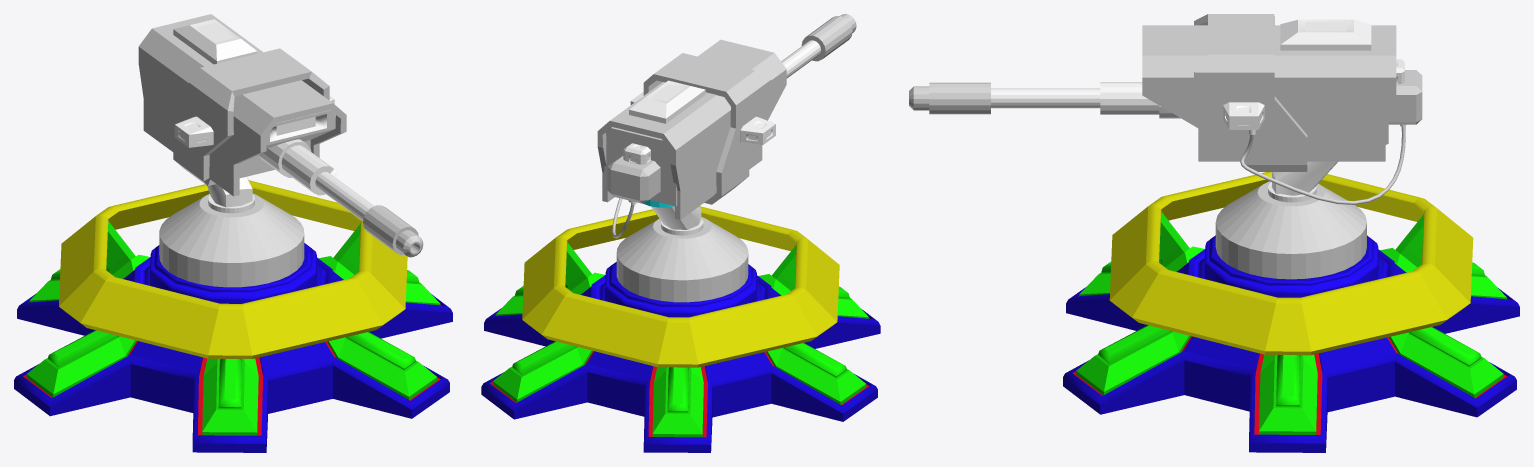
File: StandardTurret.fbx
3 views of the same model, side by side, from view 1: azimuth 30°, elevation 25°; view 2: azimuth 150°, elevation 25°; view 3: azimuth 270°, elevation 25° (orthographic). The views are drawn at different scales.
Parts seen in each view (by area): view 1: Base.003, Цилиндр.001; view 2: Base.003, Цилиндр.001; view 3: Base.003, Цилиндр.001.
Part boxes in pixels (x1,y1,x2,y2): Base.003: (14,180,452,452); Цилиндр.001: (138,14,423,287); Base.003: (481,206,880,452); Цилиндр.001: (597,14,856,302); Base.003: (1063,172,1519,452); Цилиндр.001: (909,14,1422,279).
Size of the model in its own units: 604 by 449 by 767.
